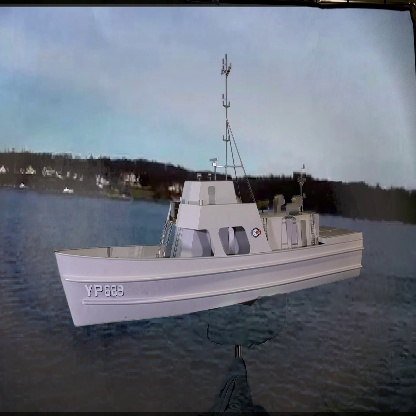YP689: (53, 53, 366, 327)
